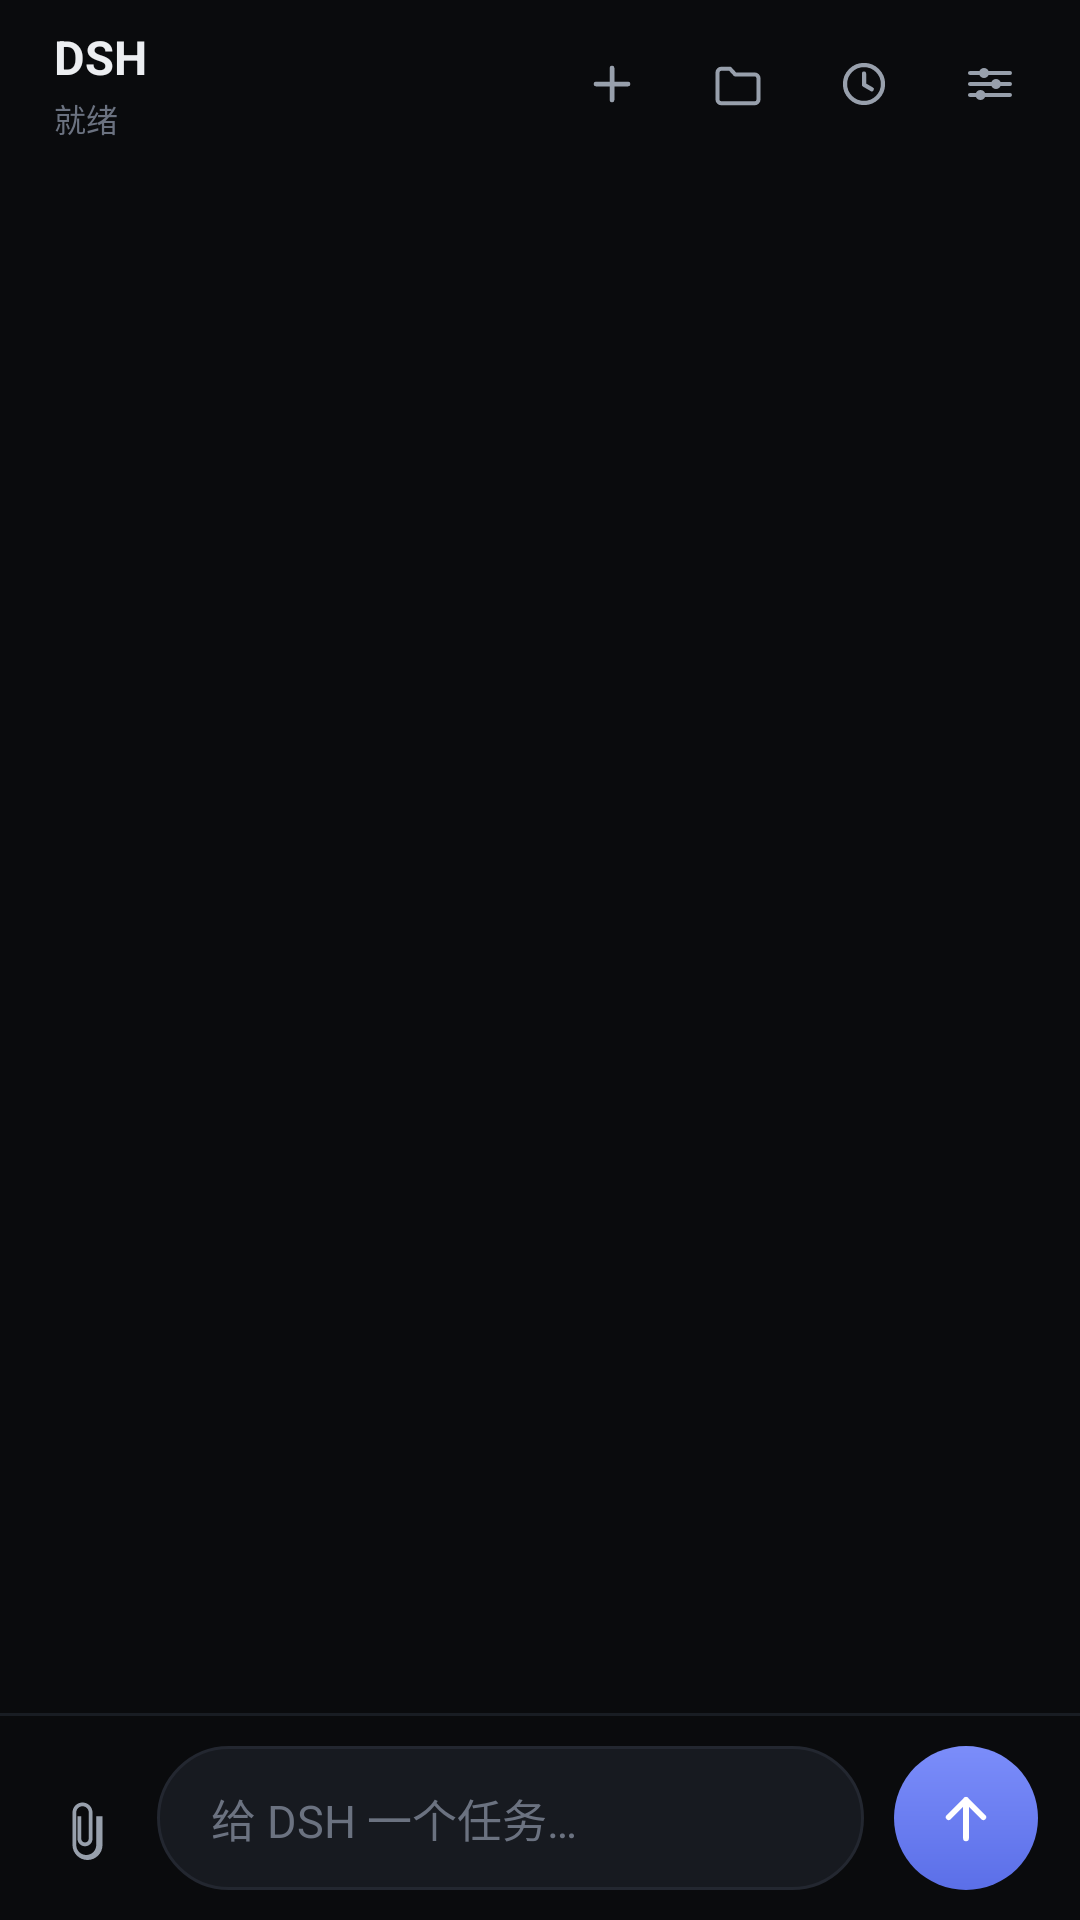

Where icons sit on this 1080x1920 app screen, as (x1, y1, x2, y2):
会话列表: (843, 63, 885, 105)
发送: (894, 1746, 1038, 1890)
工作区文件: (715, 66, 761, 106)
新建会话: (593, 65, 631, 103)
添加附件: (72, 1802, 103, 1860)
设置: (968, 68, 1012, 100)
